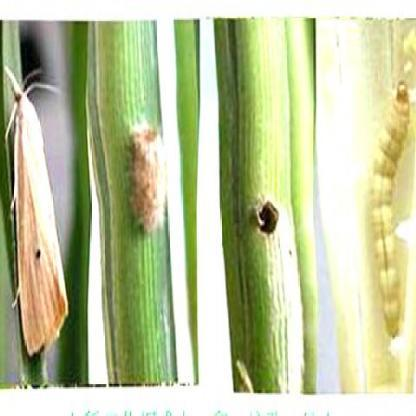stem-borer: (0, 61, 71, 360)
